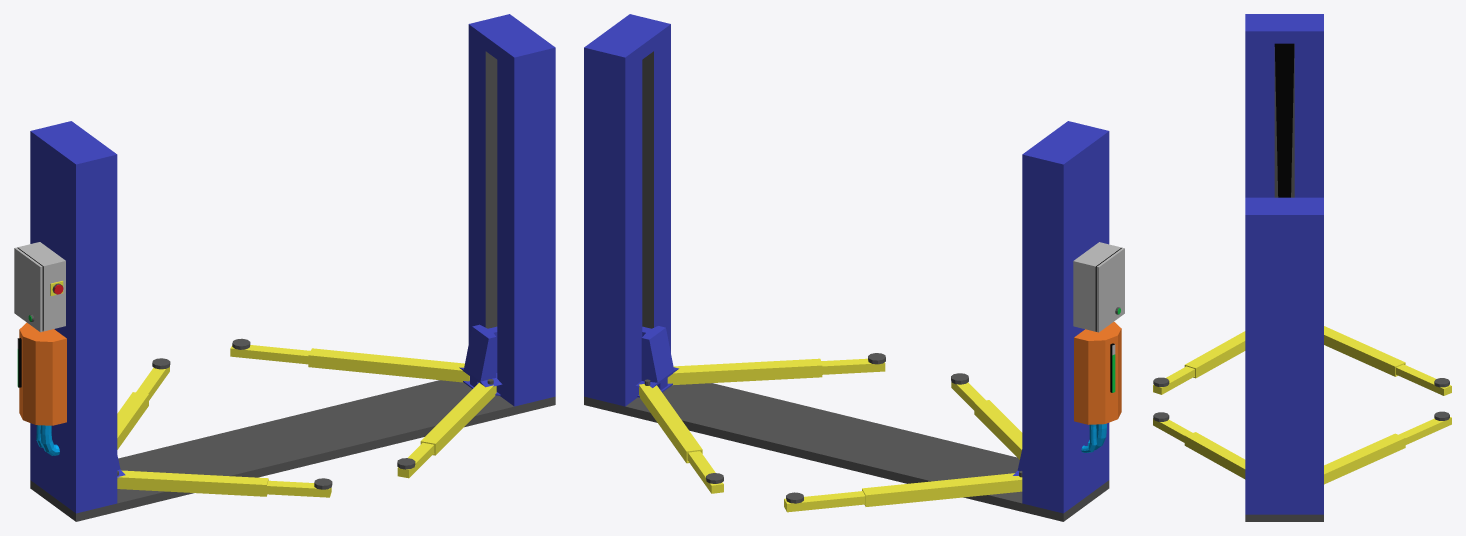
File: Lift.fbx
3 views of the same model, side by side, from view 1: azimuth 30°, elevation 25°; view 2: azimuth 150°, elevation 25°; view 3: azimuth 270°, elevation 25° (orthographic). The views are drawn at different scales.
Parts seen in each view (by area): view 1: Cube, Cube.001; view 2: Cube, Cube.001; view 3: Cube.
Boxes of the visible parts, x1,y1,x2,y2 form: Cube: (30,14,555,521); Cube.001: (14,242,66,455); Cube: (584,14,1109,521); Cube.001: (1073,242,1124,452); Cube: (1153,14,1451,521).
Size of the model in its own units: 1288 by 860 by 759.
